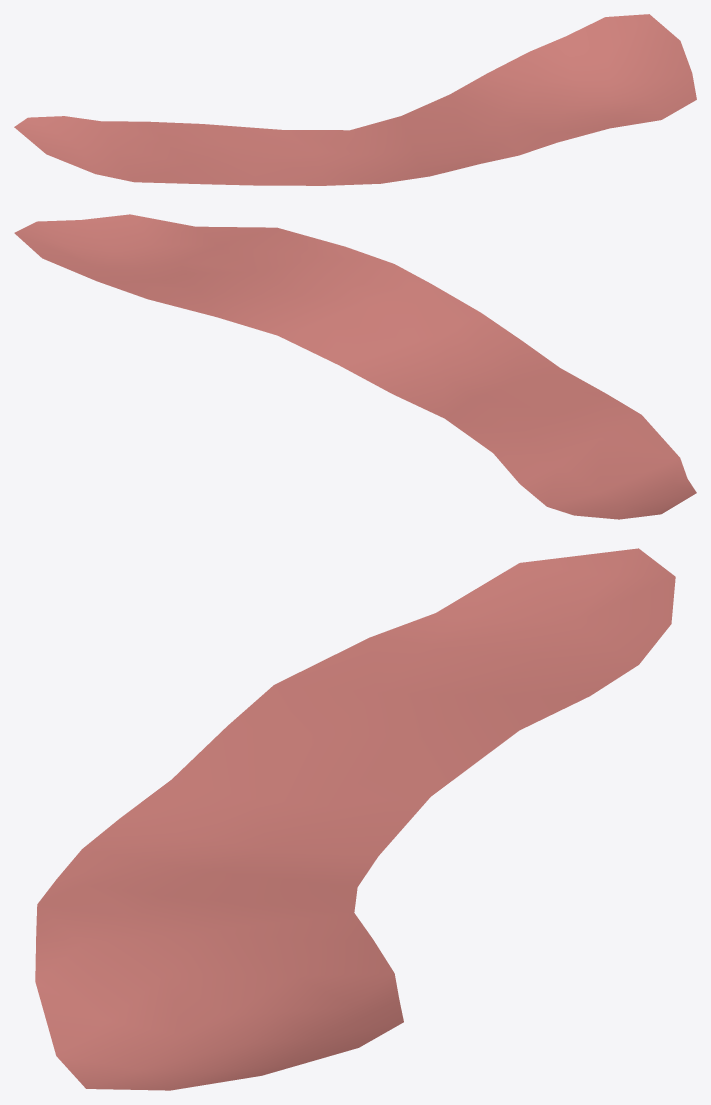
3 renders of one model, top to bottom at view 1: azimuth 30°, elevation 25°; view 2: azimuth 150°, elevation 25°; view 3: azimuth 270°, elevation 25°, orthographic. The views are drawn at different scales.
Parts seen in each view (by area): view 1: ZA_1a31f95f7331b6bb; view 2: ZA_1a31f95f7331b6bb; view 3: ZA_1a31f95f7331b6bb.
Boxes of the visible parts, <box> form: ZA_1a31f95f7331b6bb: <box>14,14,696,185</box>; ZA_1a31f95f7331b6bb: <box>14,214,696,519</box>; ZA_1a31f95f7331b6bb: <box>35,548,675,1090</box>.
Bounding box in the file's own units: 0.0693 × 0.00575 × 0.0336.
